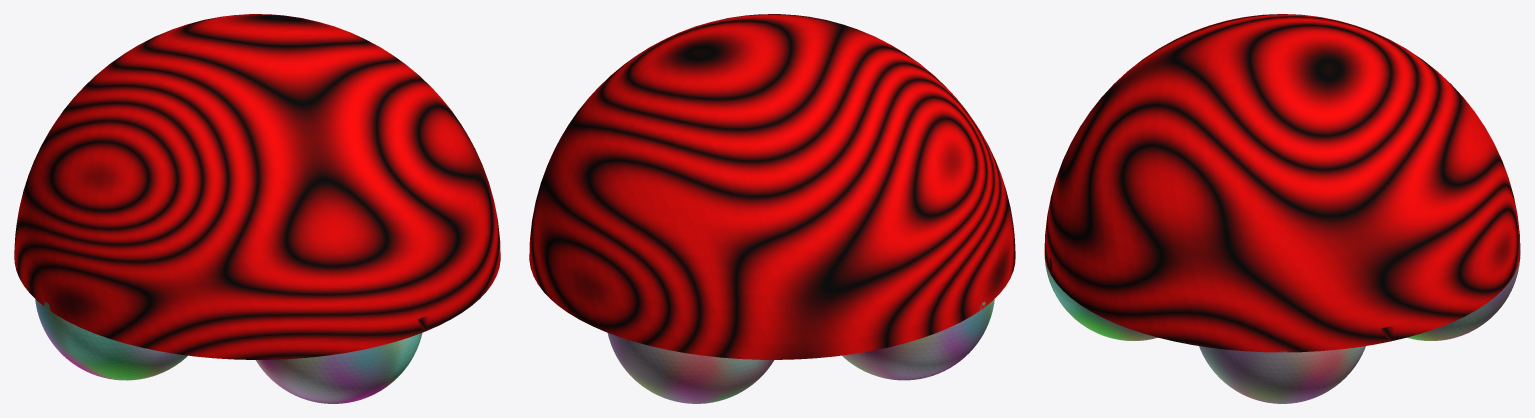
File: Ghost.gltf
3 views of the same model, side by side, from view 1: azimuth 30°, elevation 25°; view 2: azimuth 150°, elevation 25°; view 3: azimuth 270°, elevation 25° (orthographic). The views are drawn at different scales.
Visible parts, largest first — view 1: Body, Icosphere.003, Icosphere.002; view 2: Body, Icosphere.004, Icosphere.002; view 3: Body, Icosphere.001, Icosphere.003, Icosphere.004.
Boxes of the visible parts, box(x1,y1,x2,y2) form: Body: box(14, 14, 500, 359); Icosphere.003: box(255, 333, 422, 403); Icosphere.002: box(35, 299, 187, 380); Body: box(529, 14, 1015, 359); Icosphere.004: box(607, 333, 774, 403); Icosphere.002: box(842, 299, 994, 380); Body: box(1044, 14, 1520, 352); Icosphere.001: box(1199, 346, 1365, 403); Icosphere.003: box(1044, 256, 1157, 340); Icosphere.004: box(1407, 256, 1520, 340).
Bounding box in the file's own units: 2 × 1.38 × 2.
Materials: 2 (2 with a texture image).
